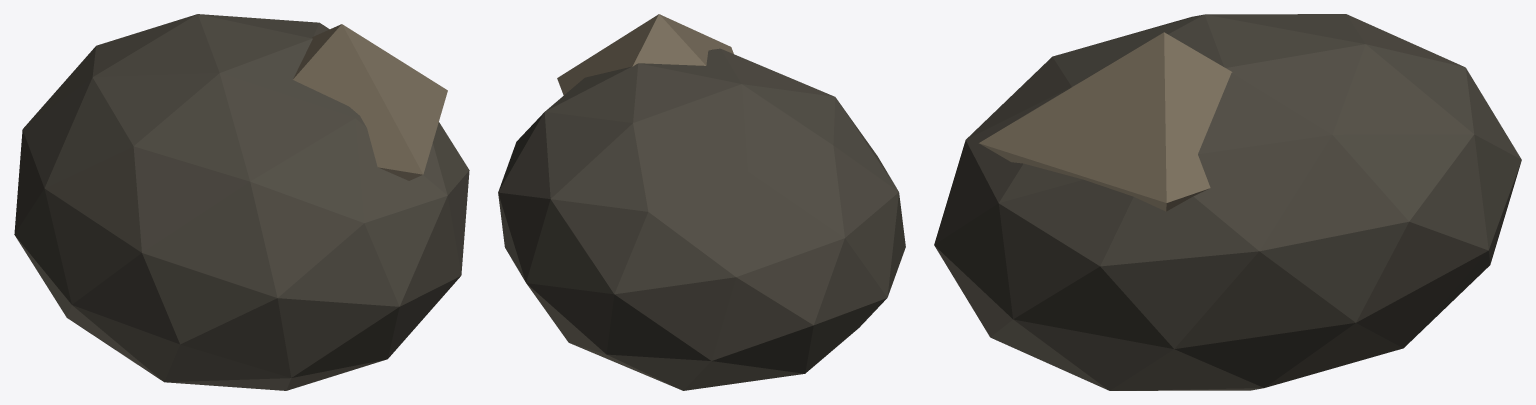
File: pile-stone-1.obj
The picture shows the model from 3 angles, left to right: view 1: azimuth 30°, elevation 25°; view 2: azimuth 150°, elevation 25°; view 3: azimuth 270°, elevation 25°; orthographic projection. The views are drawn at different scales.
Visible parts, largest first — view 1: pile-stone-1; view 2: pile-stone-1; view 3: pile-stone-1.
Part boxes in pixels (x1,y1,x2,y2): pile-stone-1: (14,14,469,390); pile-stone-1: (498,14,905,390); pile-stone-1: (934,14,1521,390).
Size of the model in its own units: 0.3082 by 0.2639 by 0.3645.
1 material, 1 textured.
